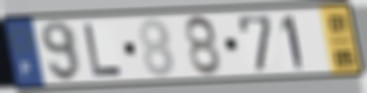1: (279, 14, 305, 71)
7: (235, 13, 274, 74)
8: (138, 16, 178, 80), (183, 14, 222, 79)
9: (39, 19, 82, 84)
L: (82, 21, 125, 79)
